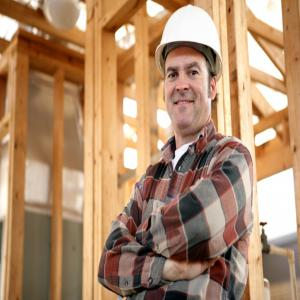white: (154, 4, 224, 136)
